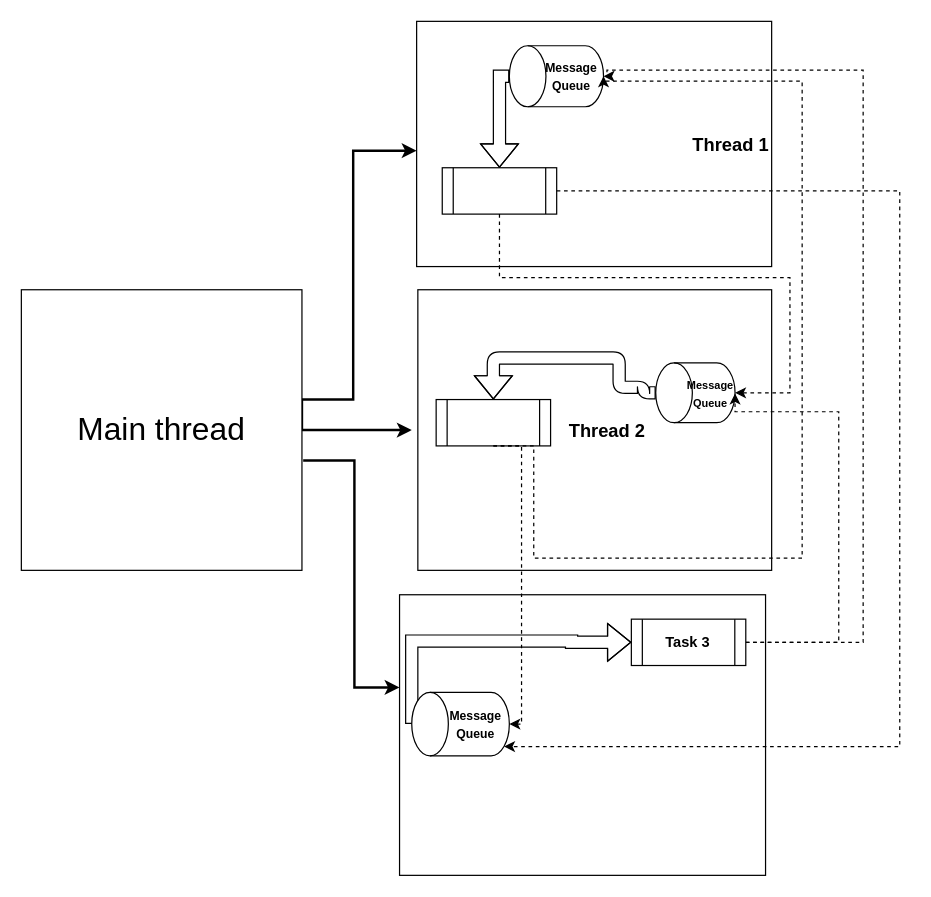
Some shapes in this 931 by 897 pixel diagram are drawn without their labels. Each missing label, with the box of its shape:
Task 1: (441, 167, 557, 214)
Task 2: (435, 398, 551, 446)
Thread 3: (398, 594, 766, 875)
